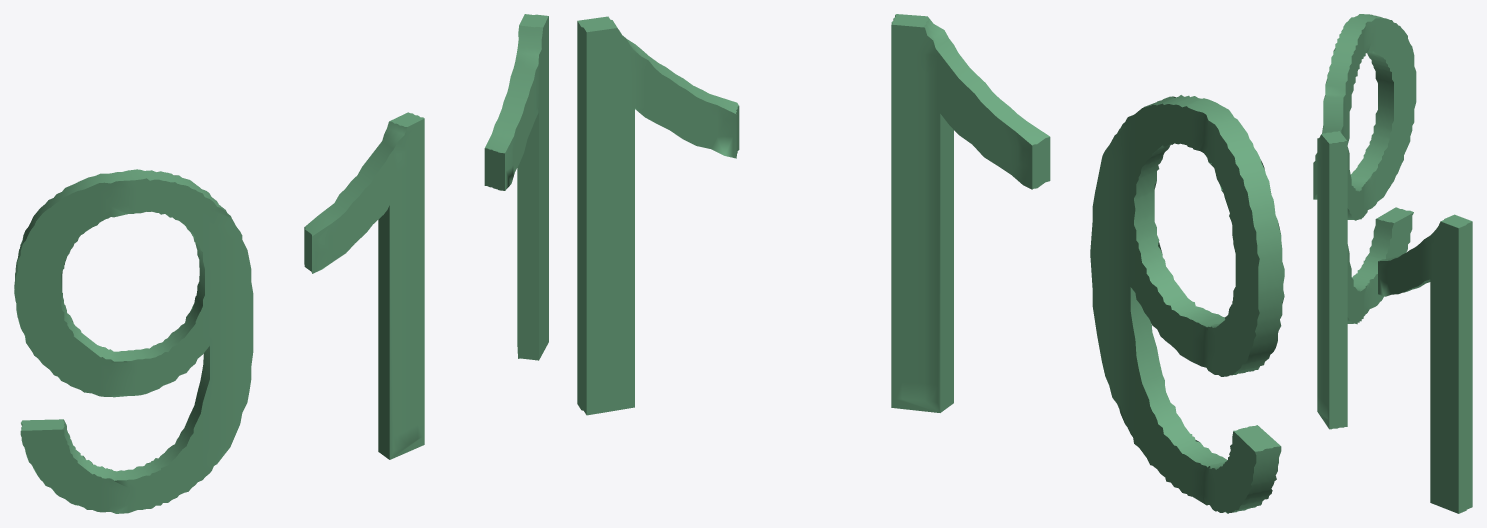
File: port_11.obj
3 renders of one model, left to right at view 1: azimuth 30°, elevation 25°; view 2: azimuth 150°, elevation 25°; view 3: azimuth 270°, elevation 25°, orthographic. The views are drawn at different scales.
Visible parts, largest first — view 1: Text01; view 2: Text01; view 3: Text01.
Boxes of the visible parts, <box> form: Text01: <box>14,14,548,513</box>; Text01: <box>577,14,1284,513</box>; Text01: <box>1313,14,1472,513</box>.
Size of the model in its own units: 2.84 by 1.59 by 0.79.
